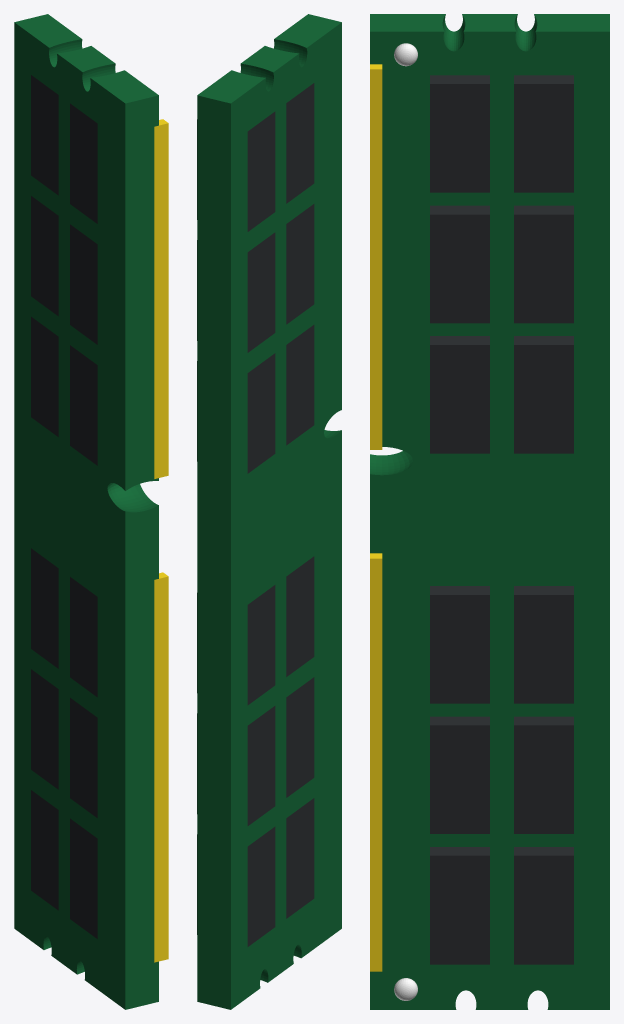
The model's file is DDR2.fbx.
3 renders of one model, left to right at view 1: azimuth 30°, elevation 25°; view 2: azimuth 150°, elevation 25°; view 3: azimuth 270°, elevation 25°, orthographic. The views are drawn at different scales.
Visible parts, largest first — view 1: obj_0; view 2: obj_0; view 3: obj_0.
Part boxes in pixels (x1,y1,x2,y2): obj_0: (14, 14, 168, 1009); obj_0: (197, 14, 341, 1009); obj_0: (370, 14, 609, 1009).
Bounding box in the file's own units: 0.1334 × 2.29 × 0.508.
